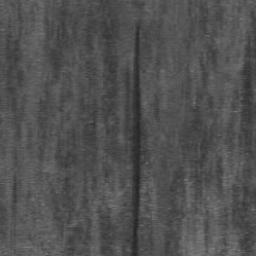Scratches: (131, 19, 139, 256)
